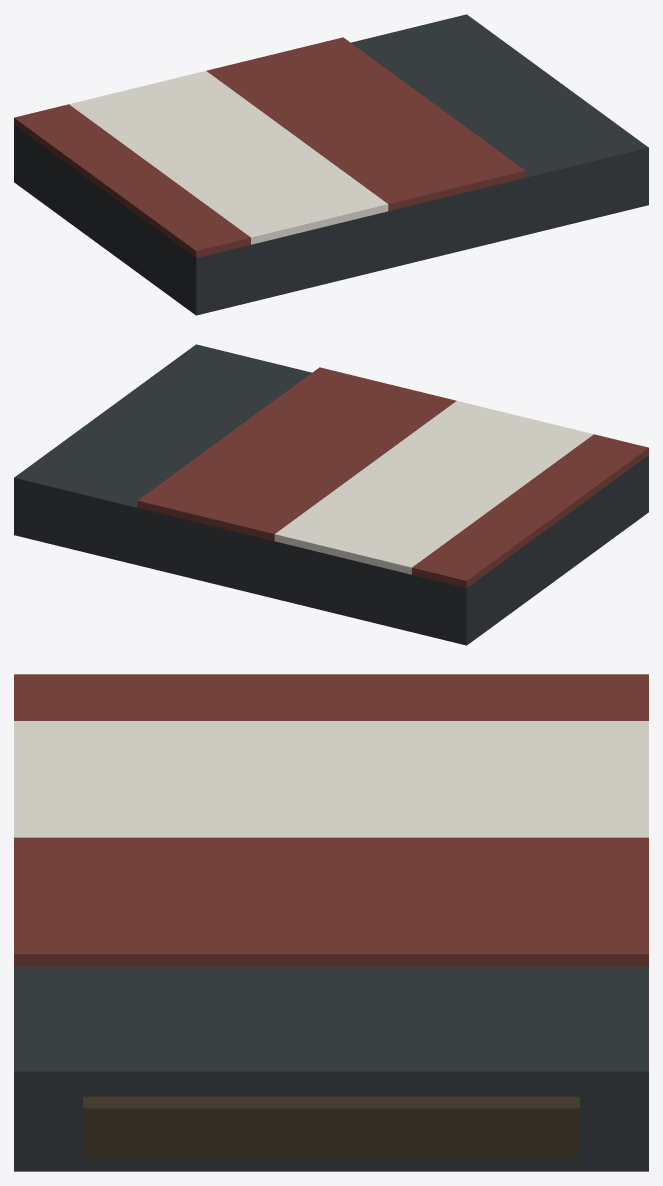
File: rolling_tobacco.glb
The picture shows the model from 3 angles, top to bottom: view 1: azimuth 30°, elevation 25°; view 2: azimuth 150°, elevation 25°; view 3: azimuth 270°, elevation 25°; orthographic projection. The views are drawn at different scales.
Parts seen in each view (by area): view 1: rolling_tobacco:compound; view 2: rolling_tobacco:compound; view 3: rolling_tobacco:compound.
Boxes of the visible parts, x1,y1,x2,y2 form: rolling_tobacco:compound: (14, 14, 648, 315); rolling_tobacco:compound: (14, 344, 648, 645); rolling_tobacco:compound: (14, 674, 648, 1171).
Size of the model in its own units: 0.136 by 0.018 by 0.092.
